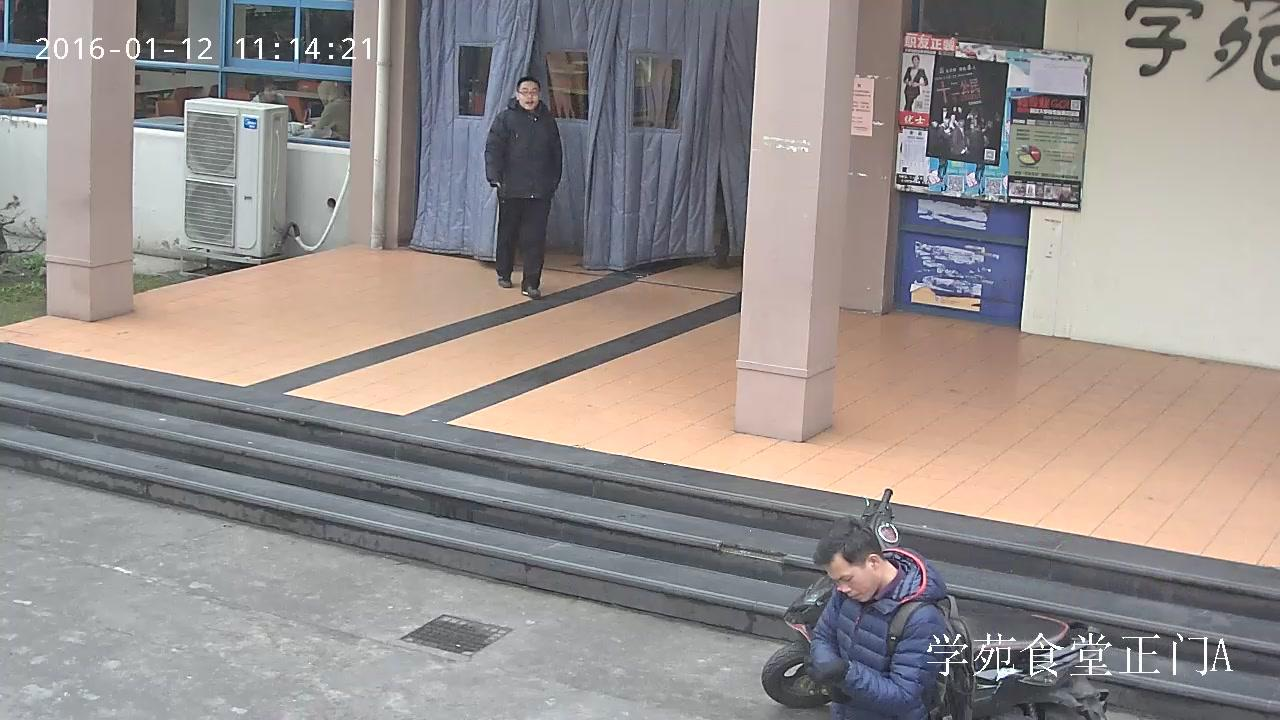person: (805, 515, 946, 720), (485, 76, 562, 298), (312, 80, 350, 140), (904, 55, 927, 111)
